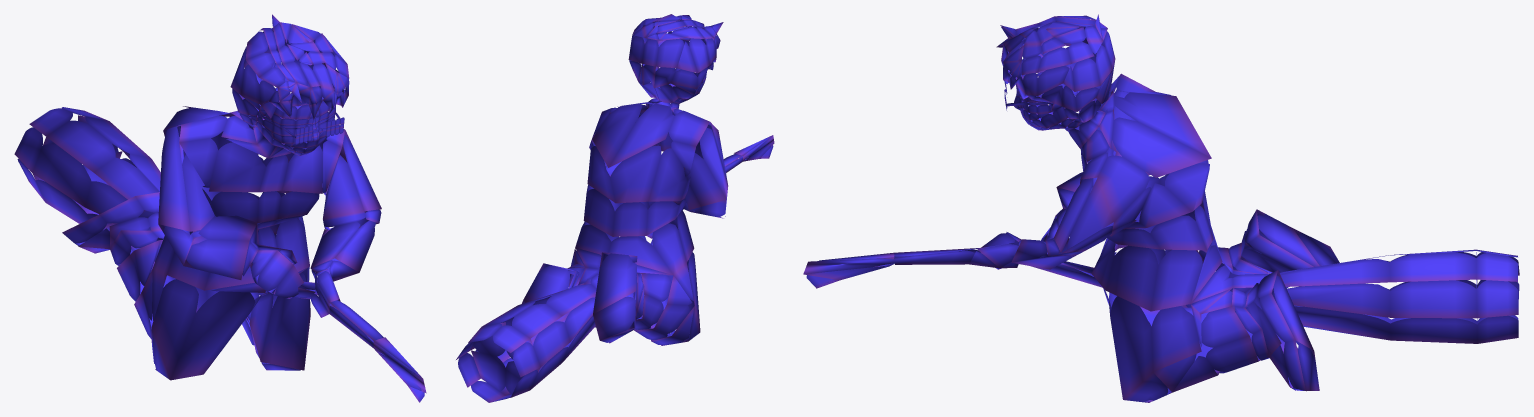
3 views of the same model, side by side, from view 1: azimuth 30°, elevation 25°; view 2: azimuth 150°, elevation 25°; view 3: azimuth 270°, elevation 25° (orthographic). The views are drawn at different scales.
Parts seen in each view (by area): view 1: T1L3M005_6; view 2: T1L3M005_6; view 3: T1L3M005_6.
Part boxes in pixels (x1,y1,x2,y2): T1L3M005_6: (14, 14, 426, 402); T1L3M005_6: (456, 14, 774, 402); T1L3M005_6: (803, 14, 1519, 402).
Bounding box in the file's own units: 0.502 × 0.9614 × 1.68.
